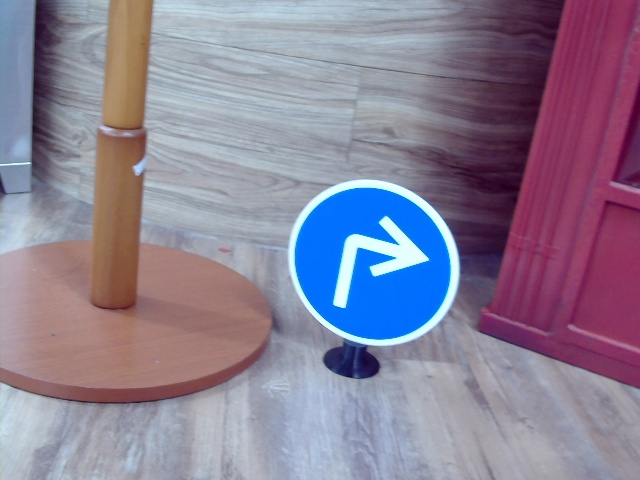turn_right: (325, 208, 428, 314)
